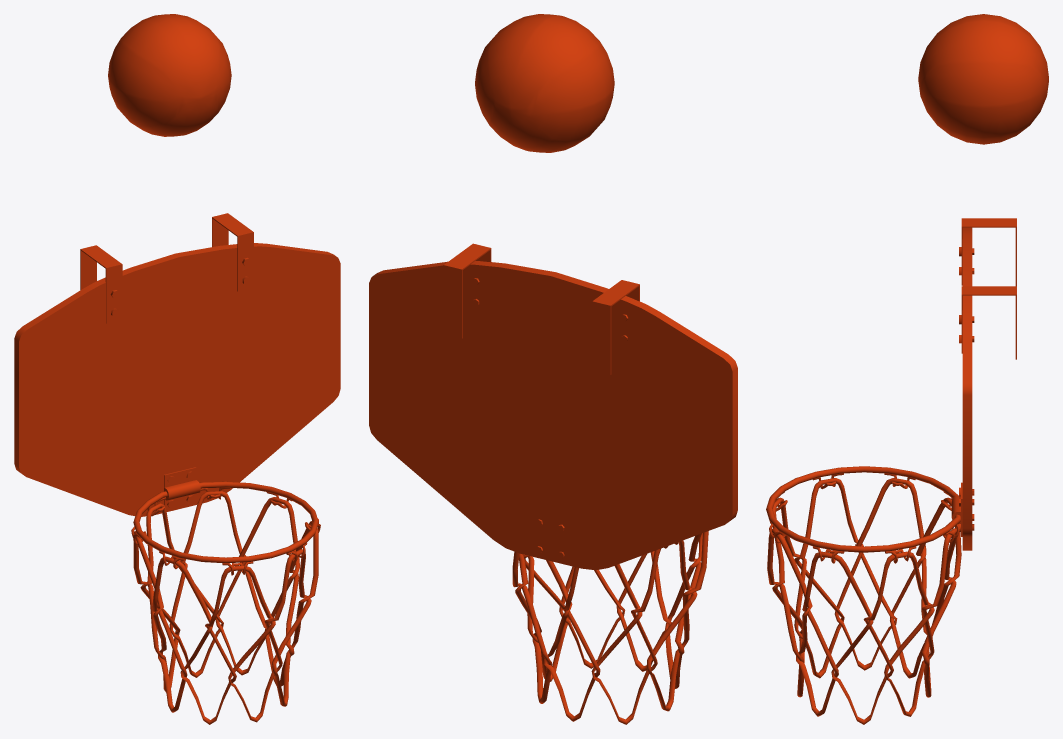
The model's file is Basketball_hoop.fbx.
3 renders of one model, left to right at view 1: azimuth 30°, elevation 25°; view 2: azimuth 150°, elevation 25°; view 3: azimuth 270°, elevation 25°, orthographic. The views are drawn at different scales.
Visible parts, largest first — view 1: Basketball_hoop, Ball_1; view 2: Basketball_hoop, Ball_1; view 3: Basketball_hoop, Ball_1.
Boxes of the visible parts, bbox=[...] form: Basketball_hoop: bbox=[14, 213, 340, 724]; Ball_1: bbox=[108, 14, 231, 136]; Basketball_hoop: bbox=[369, 243, 737, 724]; Ball_1: bbox=[475, 14, 614, 152]; Basketball_hoop: bbox=[766, 218, 1016, 724]; Ball_1: bbox=[918, 14, 1048, 144].
Bounding box in the file's own units: 60 × 114 × 43.15.
